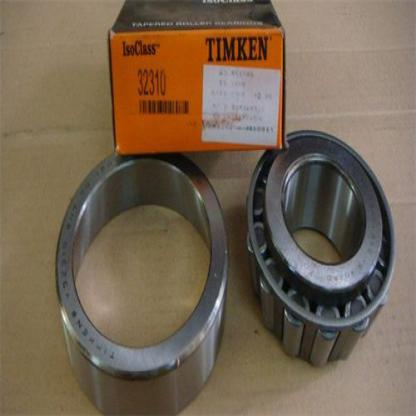FOD: (51, 137, 231, 415), (242, 122, 402, 369)
